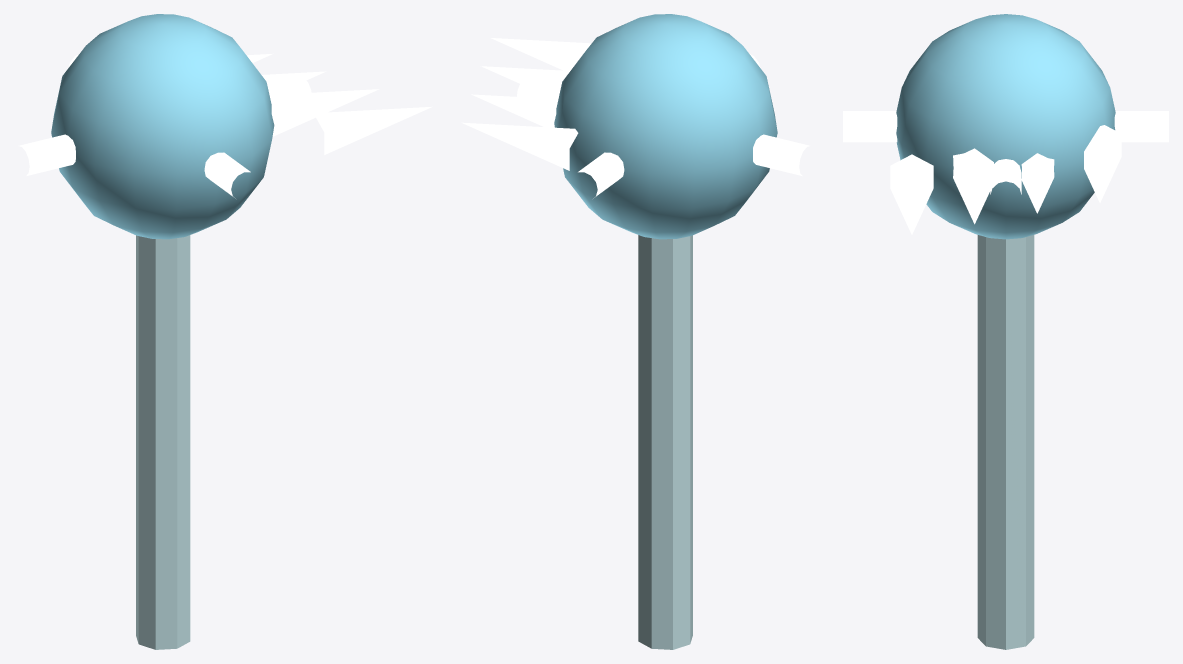
Rendered from eye-of-skadi.glb.
The picture shows the model from 3 angles, left to right: view 1: azimuth 30°, elevation 25°; view 2: azimuth 150°, elevation 25°; view 3: azimuth 270°, elevation 25°; orthographic projection.
Parts seen in each view (by area): view 1: eye-of-skadi-orb-core, eye-of-skadi-short-haft, eye-of-skadi-ice-spike-3, eye-of-skadi-ice-spike-2, eye-of-skadi-orb-ring-x, eye-of-skadi-orb-ring-z; view 2: eye-of-skadi-orb-core, eye-of-skadi-short-haft, eye-of-skadi-ice-spike-0, eye-of-skadi-orb-ring-x, eye-of-skadi-ice-spike-3, eye-of-skadi-ice-spike-1, eye-of-skadi-orb-ring-z, eye-of-skadi-ice-spike-2; view 3: eye-of-skadi-orb-core, eye-of-skadi-short-haft, eye-of-skadi-orb-ring-z, eye-of-skadi-ice-spike-3, eye-of-skadi-ice-spike-2, eye-of-skadi-ice-spike-0, eye-of-skadi-ice-spike-1, eye-of-skadi-orb-ring-x.
Part boxes in pixels (<box>): eye-of-skadi-orb-core: <box>51,14,274,239</box>; eye-of-skadi-short-haft: <box>136,235,190,649</box>; eye-of-skadi-ice-spike-3: <box>313,106,432,154</box>; eye-of-skadi-ice-spike-2: <box>269,89,379,136</box>; eye-of-skadi-orb-ring-x: <box>18,77,311,175</box>; eye-of-skadi-orb-ring-z: <box>68,54,250,198</box>; eye-of-skadi-orb-core: <box>554,14,777,239</box>; eye-of-skadi-short-haft: <box>638,235,692,649</box>; eye-of-skadi-ice-spike-0: <box>461,122,578,170</box>; eye-of-skadi-orb-ring-x: <box>516,77,809,176</box>; eye-of-skadi-ice-spike-3: <box>491,38,591,70</box>; eye-of-skadi-ice-spike-1: <box>471,94,558,127</box>; eye-of-skadi-orb-ring-z: <box>578,54,760,198</box>; eye-of-skadi-ice-spike-2: <box>480,66,569,84</box>; eye-of-skadi-orb-core: <box>896,14,1115,239</box>; eye-of-skadi-short-haft: <box>977,235,1034,649</box>; eye-of-skadi-orb-ring-z: <box>843,111,1168,142</box>; eye-of-skadi-ice-spike-3: <box>890,154,933,234</box>; eye-of-skadi-ice-spike-2: <box>953,148,993,224</box>; eye-of-skadi-ice-spike-0: <box>1084,125,1121,202</box>; eye-of-skadi-ice-spike-1: <box>1021,153,1054,213</box>; eye-of-skadi-orb-ring-x: <box>990,159,1021,194</box>.
Bounding box in the file's own units: 0.67 × 1.08 × 0.52.
